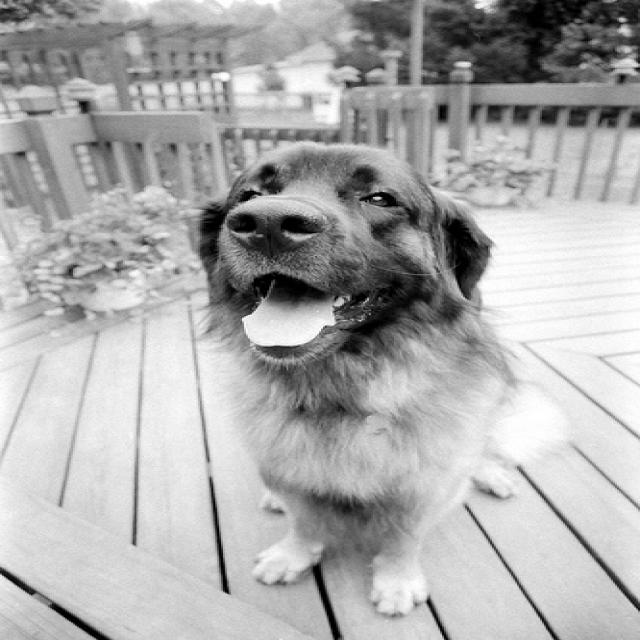dog-leonberger: (181, 136, 571, 622)
